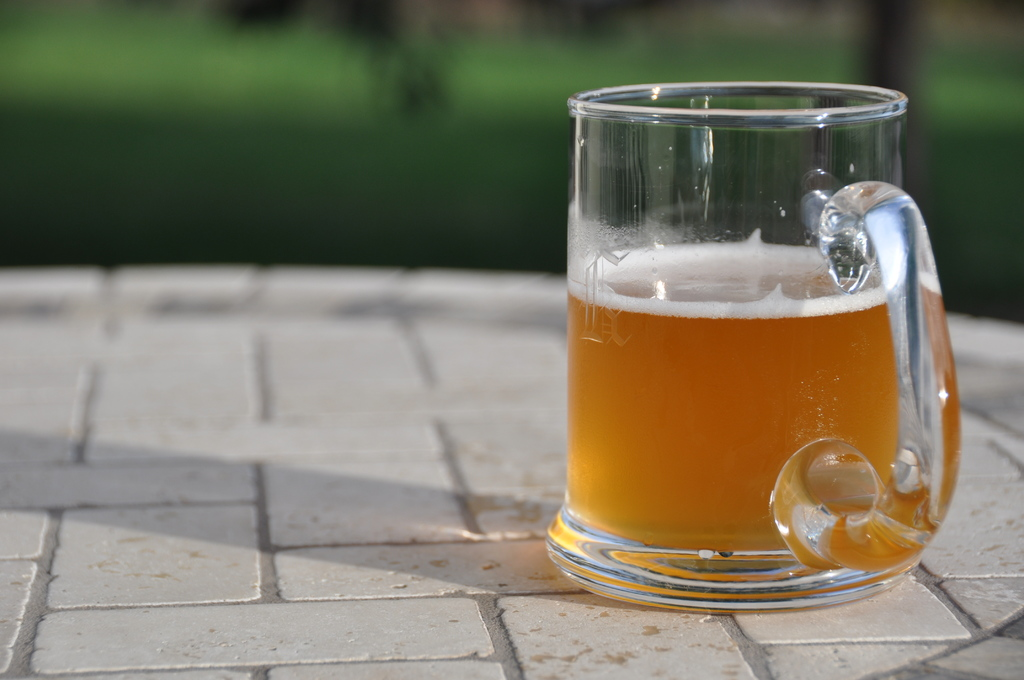Beer: (560, 234, 907, 582)
